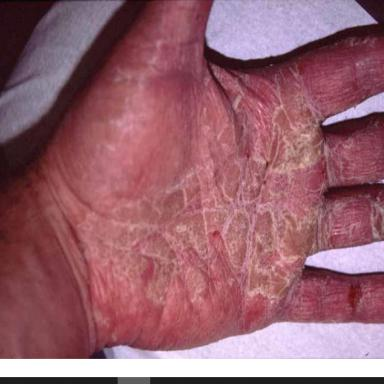eczema: (96, 37, 384, 325)
